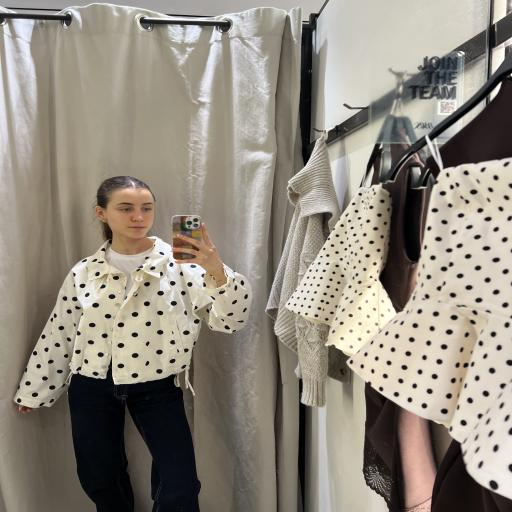masa: (103, 188, 157, 238)
